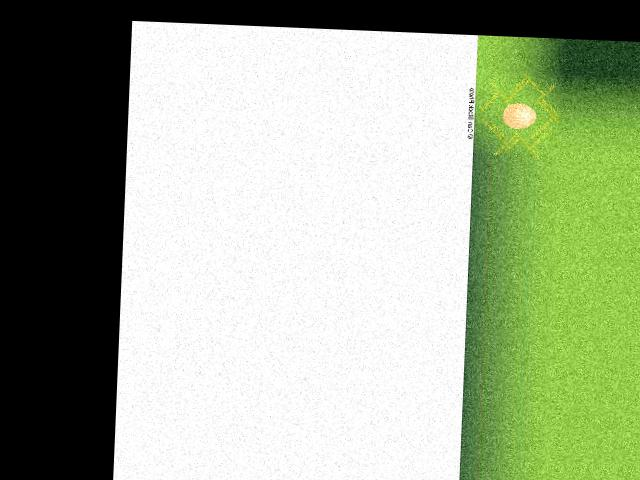egg: (502, 102, 537, 129)
